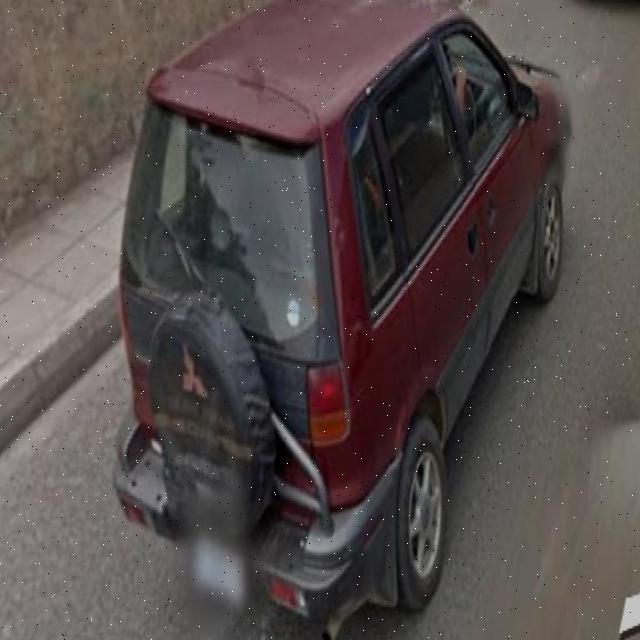car: (113, 0, 590, 624)
